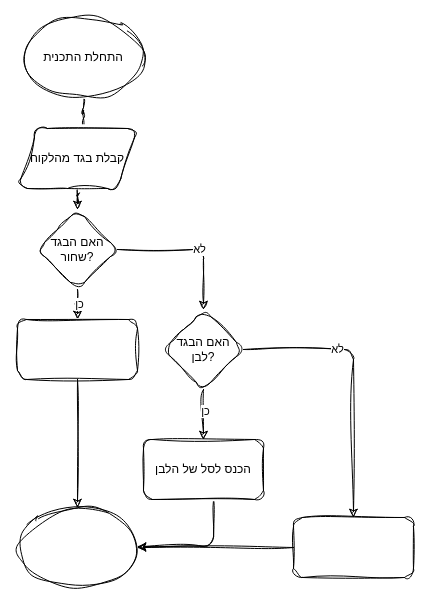
This 431x605 diagram has some shape labels left out. Here are the shapes that lost their labels. From the top down, the centre of each, then its label:
At point 77,349: "הכנס לסל של השחור".
At point 77,547: "סיום תכנית".
At point 353,547: "הכנס לסל של הצבעוני".
